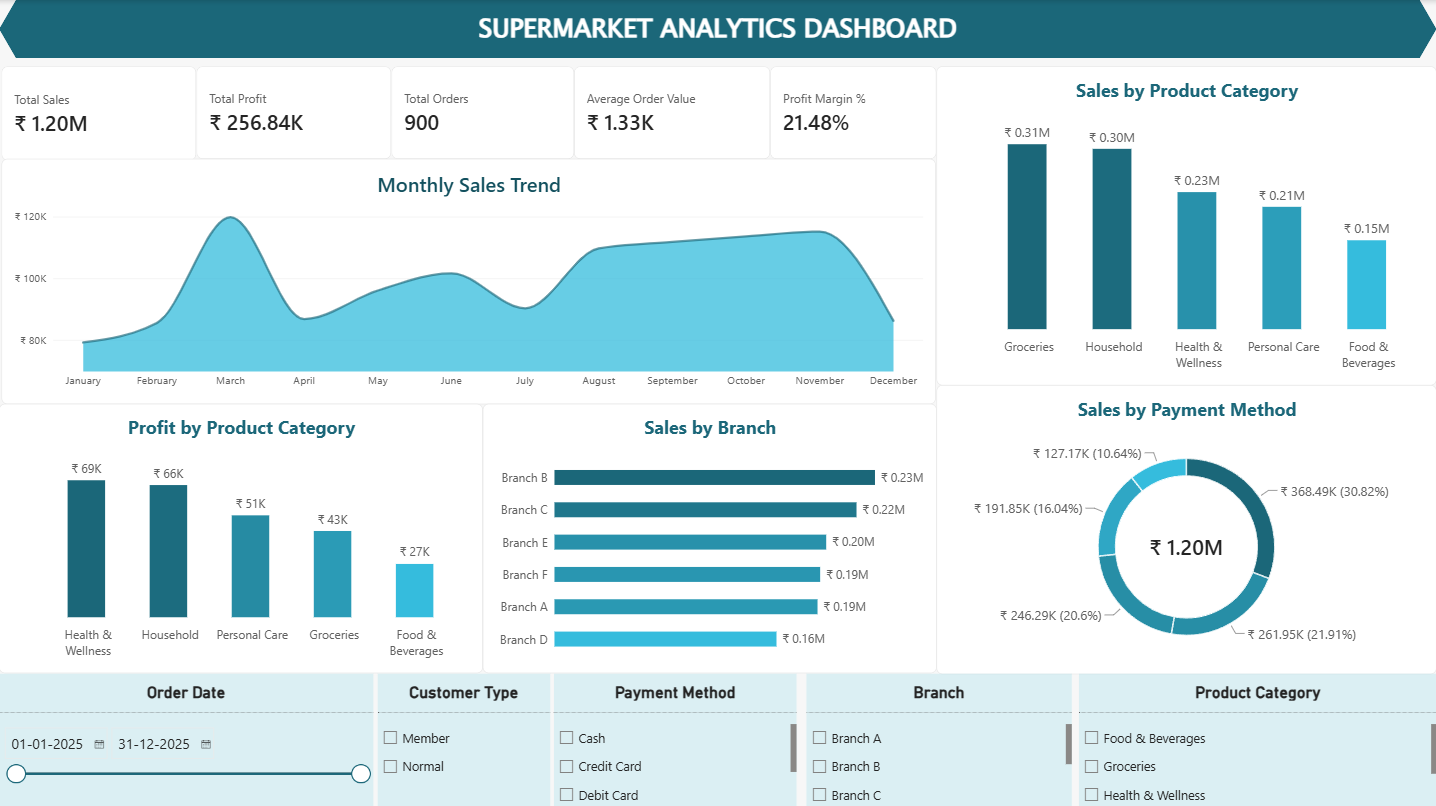

The dashboard page shown, as its layout file describes it:
{"tool":"powerbi","page":{"name":"Sales Overview","canvas":[1920,1080],"ordinal":0},"visuals":[{"type":"cardVisual","fields":{"Data":["Supermarket_Data.Total Sales"]},"box":[4,88,260,126],"z":0},{"type":"cardVisual","fields":{"Data":["Supermarket_Data.Profit Margin %"]},"box":[1030,88,222,124],"z":1000},{"type":"cardVisual","fields":{"Data":["Supermarket_Data.Total Profit"]},"box":[264,88,260,124],"z":2000},{"type":"cardVisual","fields":{"Data":["Supermarket_Data.Average Order Value"]},"box":[768,88,262,124],"z":3000},{"type":"cardVisual","fields":{"Data":["Supermarket_Data.Total Orders"]},"box":[524,88,244,124],"z":4000},{"type":"areaChart","title":"Monthly Sales Trend","fields":{"Category":["Supermarket_Data.Order_Date.Variation.Date Hierarchy.Month"],"Y":["Supermarket_Data.Total Sales"]},"box":[4,212,1248,328],"z":5000},{"type":"clusteredColumnChart","title":"Sales by Product Category","fields":{"Category":["Supermarket_Data.Product_Category"],"Y":["Supermarket_Data.Total Sales"]},"box":[1252,88,668,426],"z":6000},{"type":"clusteredColumnChart","title":"Profit by Product Category","fields":{"Category":["Supermarket_Data.Product_Category"],"Y":["Supermarket_Data.Total Profit"]},"box":[0,540,646,360],"z":7000},{"type":"barChart","title":"Sales by Branch","fields":{"Category":["Supermarket_Data.Branch"],"Y":["Supermarket_Data.Total Sales"]},"box":[646,540,606,360],"z":8000},{"type":"donutChart","title":"Sales by Payment Method","fields":{"Category":["Supermarket_Data.Payment_Method"],"Y":["Supermarket_Data.Total Sales"]},"box":[1252,514,668,386],"z":9000},{"type":"slicer","title":"Order Date","fields":{"Values":["Supermarket_Data.Order_Date"]},"box":[0,900,500,180],"z":10000},{"type":"slicer","title":"Payment Method","fields":{"Values":["Supermarket_Data.Payment_Method"]},"box":[742,900,324,178],"z":11000},{"type":"slicer","title":"Customer Type","fields":{"Values":["Supermarket_Data.Customer_Type"]},"box":[506,900,230,180],"z":12000},{"type":"slicer","title":"Branch","fields":{"Values":["Supermarket_Data.Branch"]},"box":[1078,900,354,178],"z":13000},{"type":"slicer","title":"Product Category","fields":{"Values":["Supermarket_Data.Product_Category"]},"box":[1442,900,478,180],"z":14000},{"type":"shape","box":[0,0,1920.4,77.6],"z":15000}]}

Visuals, with their boxes in screenshot pixels (x1, y1, x2, y2), scaled from the page's 1920x1080 canvas onto the 1436x806 screenshot:
cardVisual - Supermarket_Data.Total Sales: l=3, t=66, r=197, b=160
cardVisual - Supermarket_Data.Profit Margin %: l=770, t=66, r=936, b=158
cardVisual - Supermarket_Data.Total Profit: l=197, t=66, r=392, b=158
cardVisual - Supermarket_Data.Average Order Value: l=574, t=66, r=770, b=158
cardVisual - Supermarket_Data.Total Orders: l=392, t=66, r=574, b=158
"Monthly Sales Trend" areaChart: l=3, t=158, r=936, b=403
"Sales by Product Category" clusteredColumnChart: l=936, t=66, r=1435, b=384
"Profit by Product Category" clusteredColumnChart: l=0, t=403, r=483, b=672
"Sales by Branch" barChart: l=483, t=403, r=936, b=672
"Sales by Payment Method" donutChart: l=936, t=384, r=1435, b=672
"Order Date" slicer: l=0, t=672, r=374, b=805
"Payment Method" slicer: l=555, t=672, r=797, b=805
"Customer Type" slicer: l=378, t=672, r=550, b=805
"Branch" slicer: l=806, t=672, r=1071, b=805
"Product Category" slicer: l=1078, t=672, r=1435, b=805
shape: l=0, t=0, r=1435, b=58
